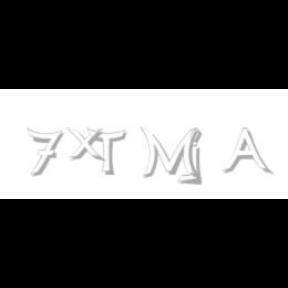7: (26, 128, 64, 178)
A: (222, 128, 270, 176)
M: (140, 128, 198, 180)
T: (86, 128, 126, 176)
j: (188, 128, 216, 186)
x: (67, 128, 109, 162)
